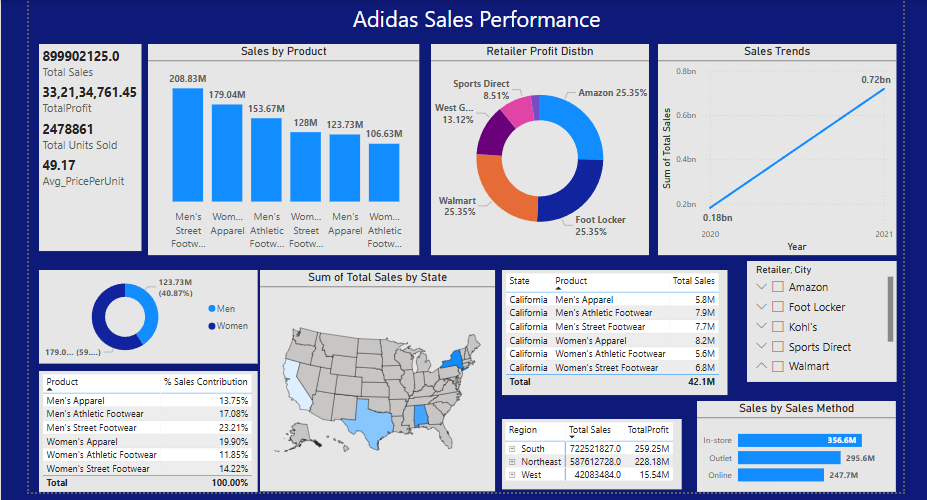

Layout of this report page (visuals, bound fields, positions):
{"tool":"powerbi","page":{"name":"Adidas Dashboard","canvas":[1280,720],"ordinal":0},"visuals":[{"type":"multiRowCard","title":"Business Performance","fields":{"Values":["Sum(Sales.Total Sales)","Sales.TotalProfit","Sum(Sales.Units Sold)","Retailer.Avg_PricePerUnit"]},"box":[14.6,67.3,146.3,308.8],"z":0},{"type":"clusteredColumnChart","title":"Sales by Product","fields":{"Category":["Products.Product"],"Y":["Retailer.Total_SaleAmt"]},"box":[174.1,67.3,396.6,308.8],"z":1000},{"type":"donutChart","title":" Retailer Profit Distbn","fields":{"Category":["Retailer.Retailer"],"Y":["Sales.TotalProfit"]},"box":[586.8,67.3,319,308.8],"z":2000},{"type":"areaChart","title":"Sales Trends","fields":{"Category":["Date.Invoice Date.Variation.Date Hierarchy.Year","Date.Invoice Date.Variation.Date Hierarchy.Quarter","Date.Invoice Date.Variation.Date Hierarchy.Month","Date.Invoice Date.Variation.Date Hierarchy.Day"],"Y":["Sum(Sales.Total Sales)"]},"box":[920.5,67.3,348.3,308.8],"z":3000},{"type":"tableEx","fields":{"Values":["Products.Product","Sum(Sales.Total Sales)"]},"box":[14.6,395.1,311.7,191.7],"z":4000},{"type":"clusteredBarChart","title":"Sales by Sales Method","fields":{"Category":["Sales.Sales Method"],"Y":["Sum(Sales.Total Sales)"]},"box":[977.1,587.1,291.4,132.9],"z":5000},{"type":"shapeMap","title":"Total Sales by State","fields":{"Category":["Retailer.State"],"Value":["Sum(Sales.Total Sales)"]},"box":[338.6,395.7,344.3,324.3],"z":6000},{"type":"pivotTable","fields":{"Rows":["Retailer.Region","Retailer.City"],"Values":["Sum(Sales.Total Sales)","Sum(Sales.Operating Margin)"]},"box":[692.2,586.8,273.7,128.8],"z":7000},{"type":"slicer","fields":{"Values":["Retailer.Retailer"]},"box":[1061,7.3,207.8,52.7],"z":8000},{"type":"slicer","fields":{"Values":["Products.Product"]},"box":[828.3,7.3,221,52.7],"z":9000},{"type":"textbox","box":[14.6,7.3,523.9,52.7],"z":10000},{"type":"slicer","fields":{"Values":["Retailer.City"]},"box":[562,7.3,238.5,52.7],"z":11000},{"type":"tableEx","fields":{"Values":["Retailer.State","Retailer.Total_SaleAmt","Date.All_Sales","Date.% Sales Share"]},"box":[695.7,395.7,572.9,174.3],"z":12000}]}

Visuals, with their boxes on the page's 1280x720 design canvas (x1, y1, x2, y2). These are canvas units, not pixel positions in the 927x500 screenshot, which may show the page scaled, cropped or inside an application window:
"Business Performance" multiRowCard: <bbox>15, 67, 161, 376</bbox>
"Sales by Product" clusteredColumnChart: <bbox>174, 67, 571, 376</bbox>
" Retailer Profit Distbn" donutChart: <bbox>587, 67, 906, 376</bbox>
"Sales Trends" areaChart: <bbox>920, 67, 1269, 376</bbox>
tableEx - Products.Product x Sum(Sales.Total Sales): <bbox>15, 395, 326, 587</bbox>
"Sales by Sales Method" clusteredBarChart: <bbox>977, 587, 1268, 720</bbox>
"Total Sales by State" shapeMap: <bbox>339, 396, 683, 720</bbox>
pivotTable - Retailer.Region x Retailer.City: <bbox>692, 587, 966, 716</bbox>
slicer - Retailer.Retailer: <bbox>1061, 7, 1269, 60</bbox>
slicer - Products.Product: <bbox>828, 7, 1049, 60</bbox>
textbox: <bbox>15, 7, 538, 60</bbox>
slicer - Retailer.City: <bbox>562, 7, 800, 60</bbox>
tableEx - Retailer.State x Retailer.Total_SaleAmt: <bbox>696, 396, 1269, 570</bbox>
